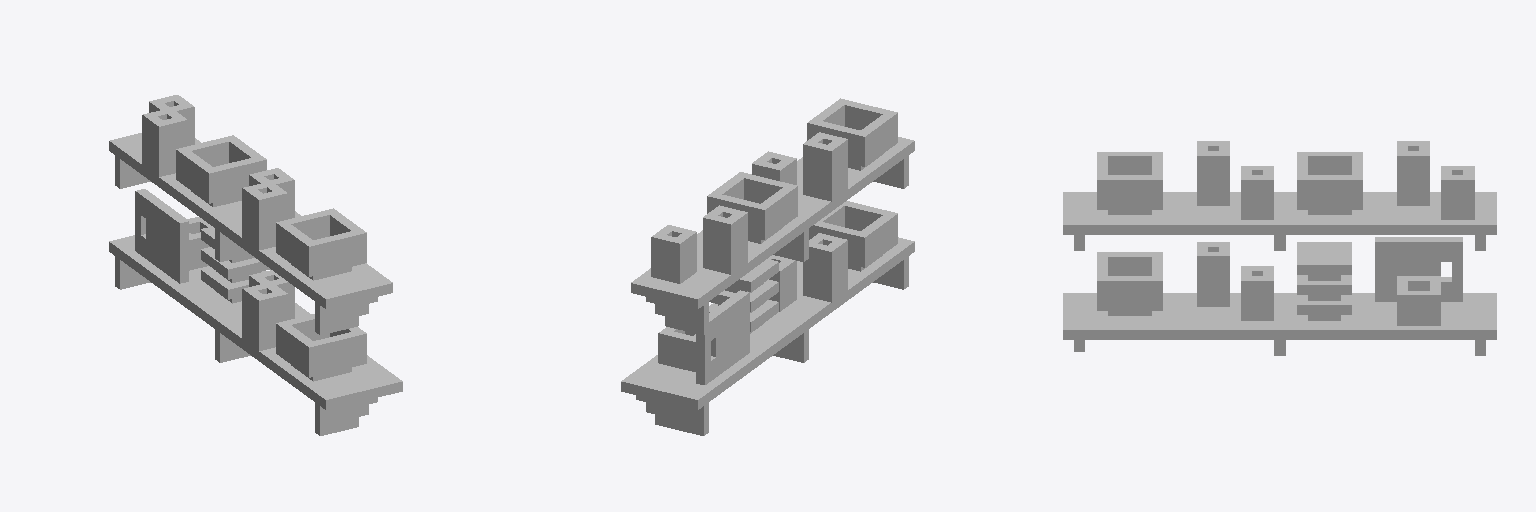
Rendered from Shelf.obj.
3 views of the same model, side by side, from view 1: azimuth 30°, elevation 25°; view 2: azimuth 150°, elevation 25°; view 3: azimuth 270°, elevation 25° (orthographic).
Visible parts, largest first — view 1: object 1; view 2: object 1; view 3: object 1.
Part boxes in pixels (bbox=[...]): object 1: bbox=[109, 95, 402, 435]; object 1: bbox=[621, 98, 914, 435]; object 1: bbox=[1063, 141, 1496, 355].
Bounding box in the file's own units: 1.6 × 3.8 × 7.8.